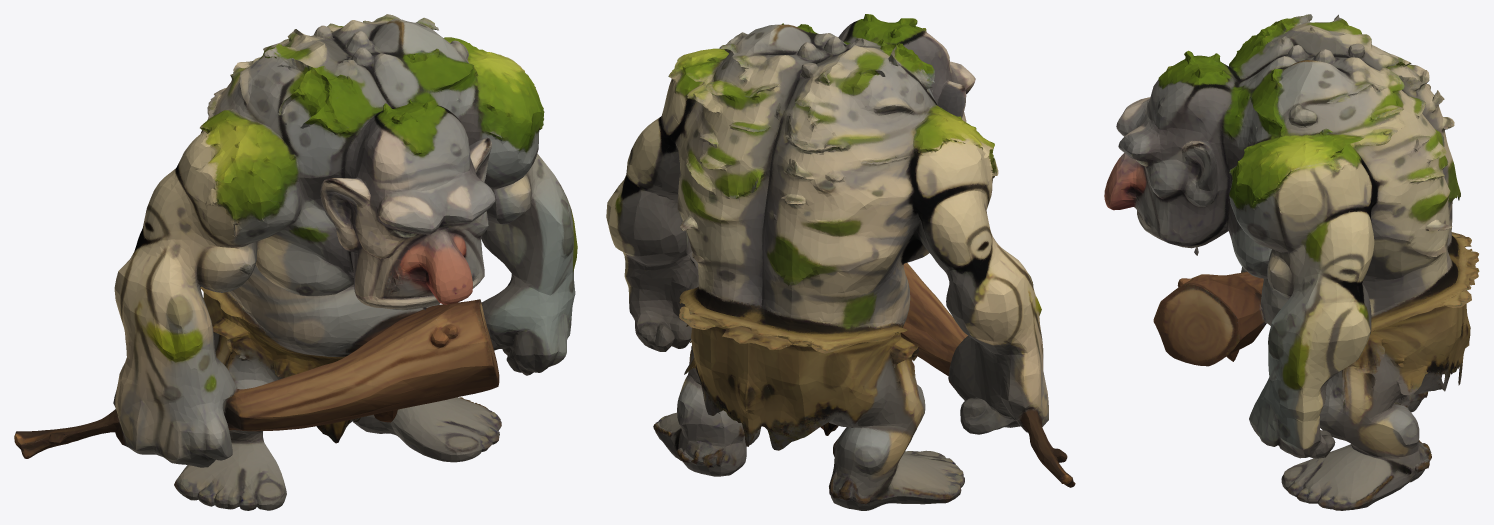
The model's file is troll.glb.
3 renders of one model, left to right at view 1: azimuth 30°, elevation 25°; view 2: azimuth 150°, elevation 25°; view 3: azimuth 270°, elevation 25°, orthographic. The views are drawn at different scales.
Parts seen in each view (by area): view 1: world; view 2: world; view 3: world.
Part boxes in pixels (x1,y1,x2,y2): world: [14, 14, 577, 510]; world: [606, 14, 1075, 510]; world: [1104, 14, 1479, 510].
Size of the model in its own units: 0.9993 by 0.8218 by 0.6886.
Materials: 1 (1 with a texture image).
